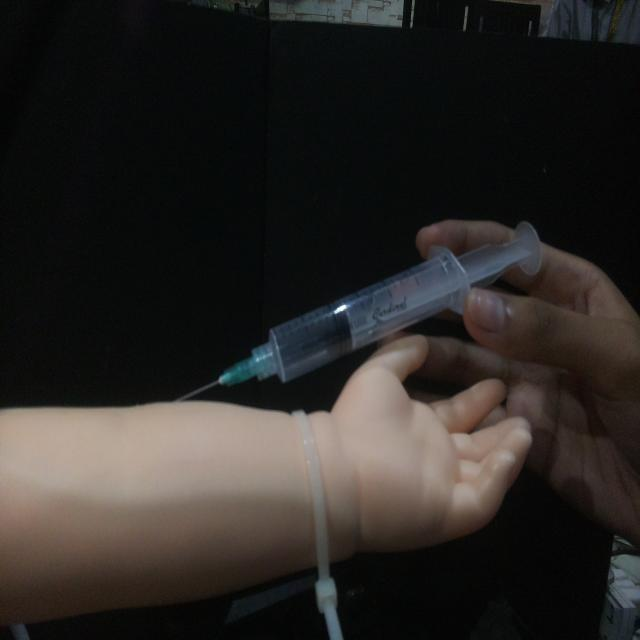17deg: (170, 216, 545, 405)
